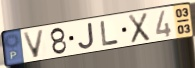4: (154, 9, 173, 38)
8: (49, 26, 68, 55)
J: (77, 21, 96, 50)
L: (99, 19, 121, 47)
V: (21, 28, 46, 60)
X: (127, 11, 152, 45)
